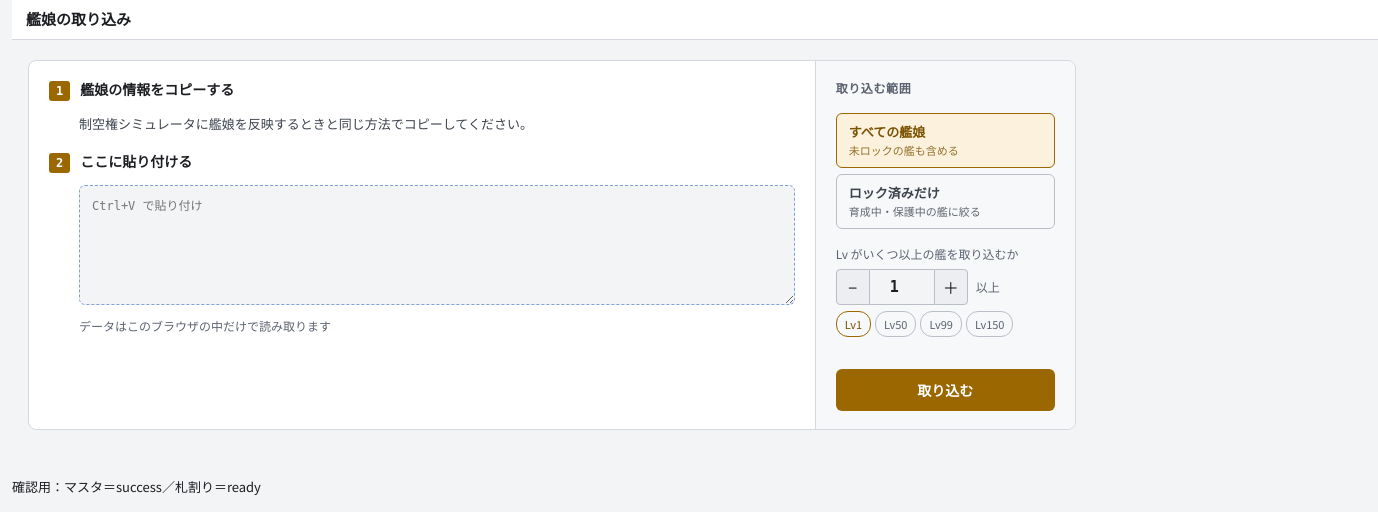
取り込み画面（ImportScreen） › Lv 下限の操作 › 「Lv1」を押すと、Lv 下限が 1 になる
The width and height of the screenshot is (1378, 512).
Step 1. Replace the text in the number field named "Lv下限" with "120" → (902, 286), box [870,268,934,304]
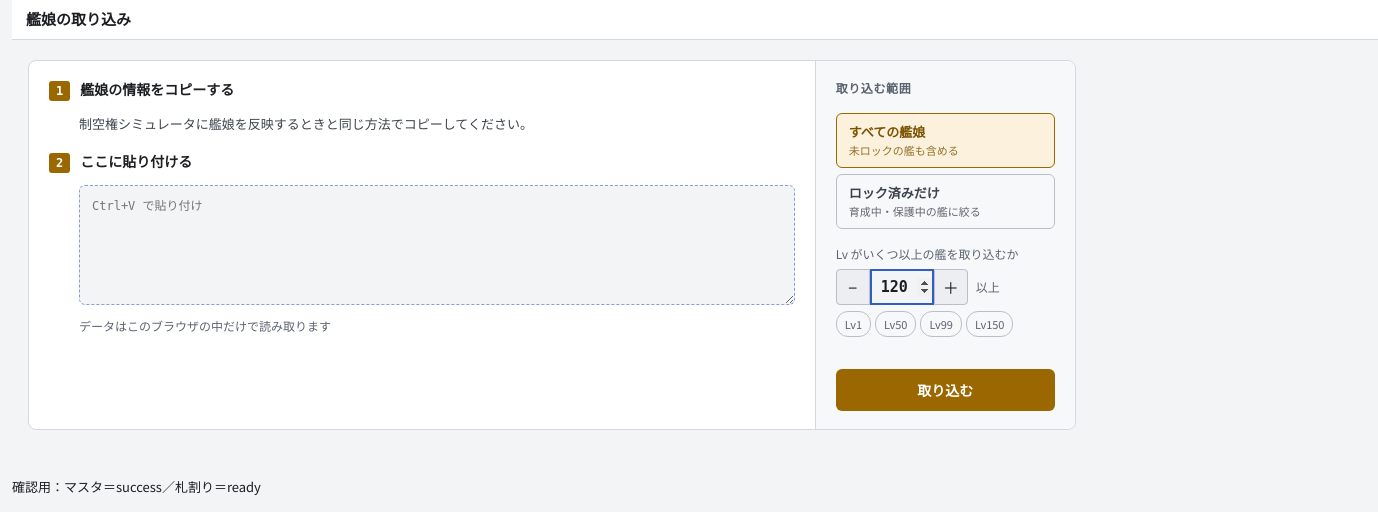
Step 2. Click the button "Lv1" → (853, 324), box [836,310,871,336]
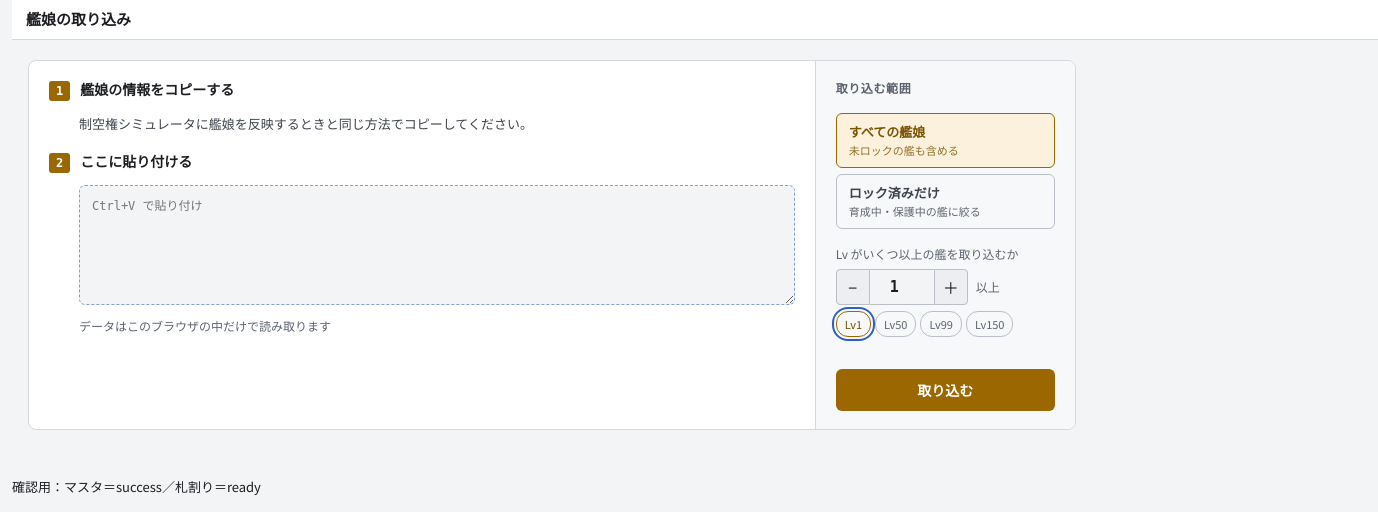
Result: the number field named "Lv下限" holds "1" at [870,268,934,304]
